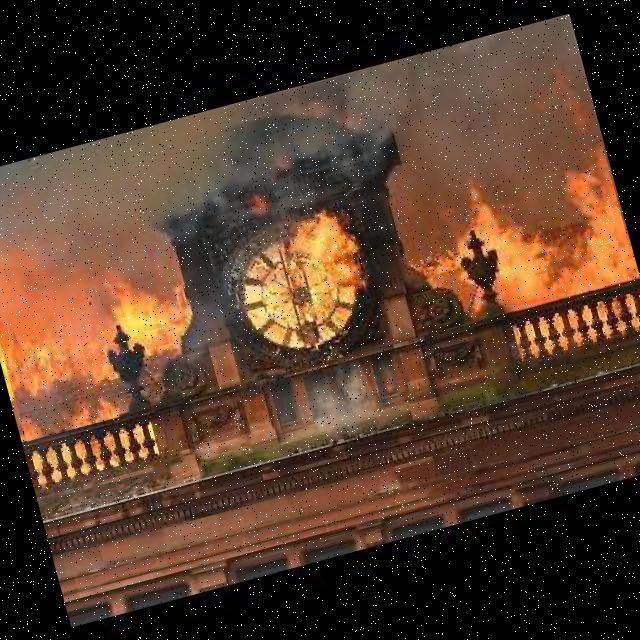fire: (0, 14, 638, 442)
